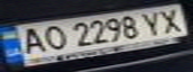2: (69, 19, 93, 48), (87, 17, 109, 46)
8: (121, 14, 142, 39)
9: (103, 16, 127, 43)
A: (12, 25, 51, 56)
O: (36, 22, 69, 52)
X: (154, 6, 190, 34)
Y: (136, 9, 169, 36)
